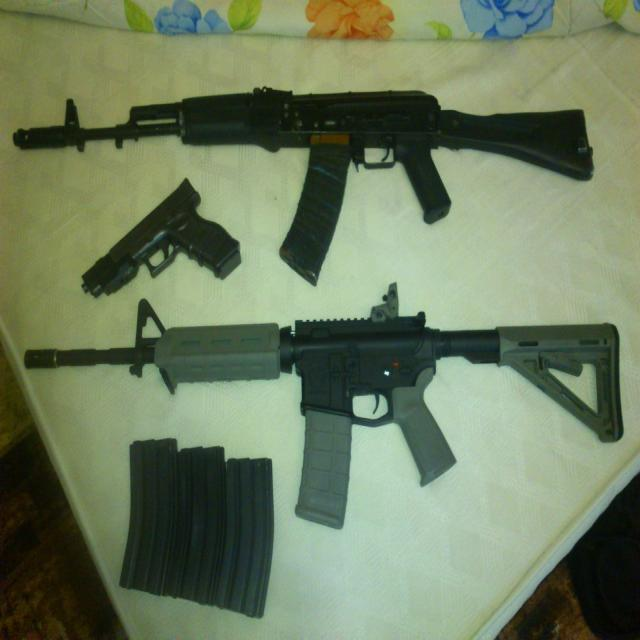firearm: (25, 280, 626, 530), (14, 85, 596, 279)
pistol: (81, 176, 244, 299)
